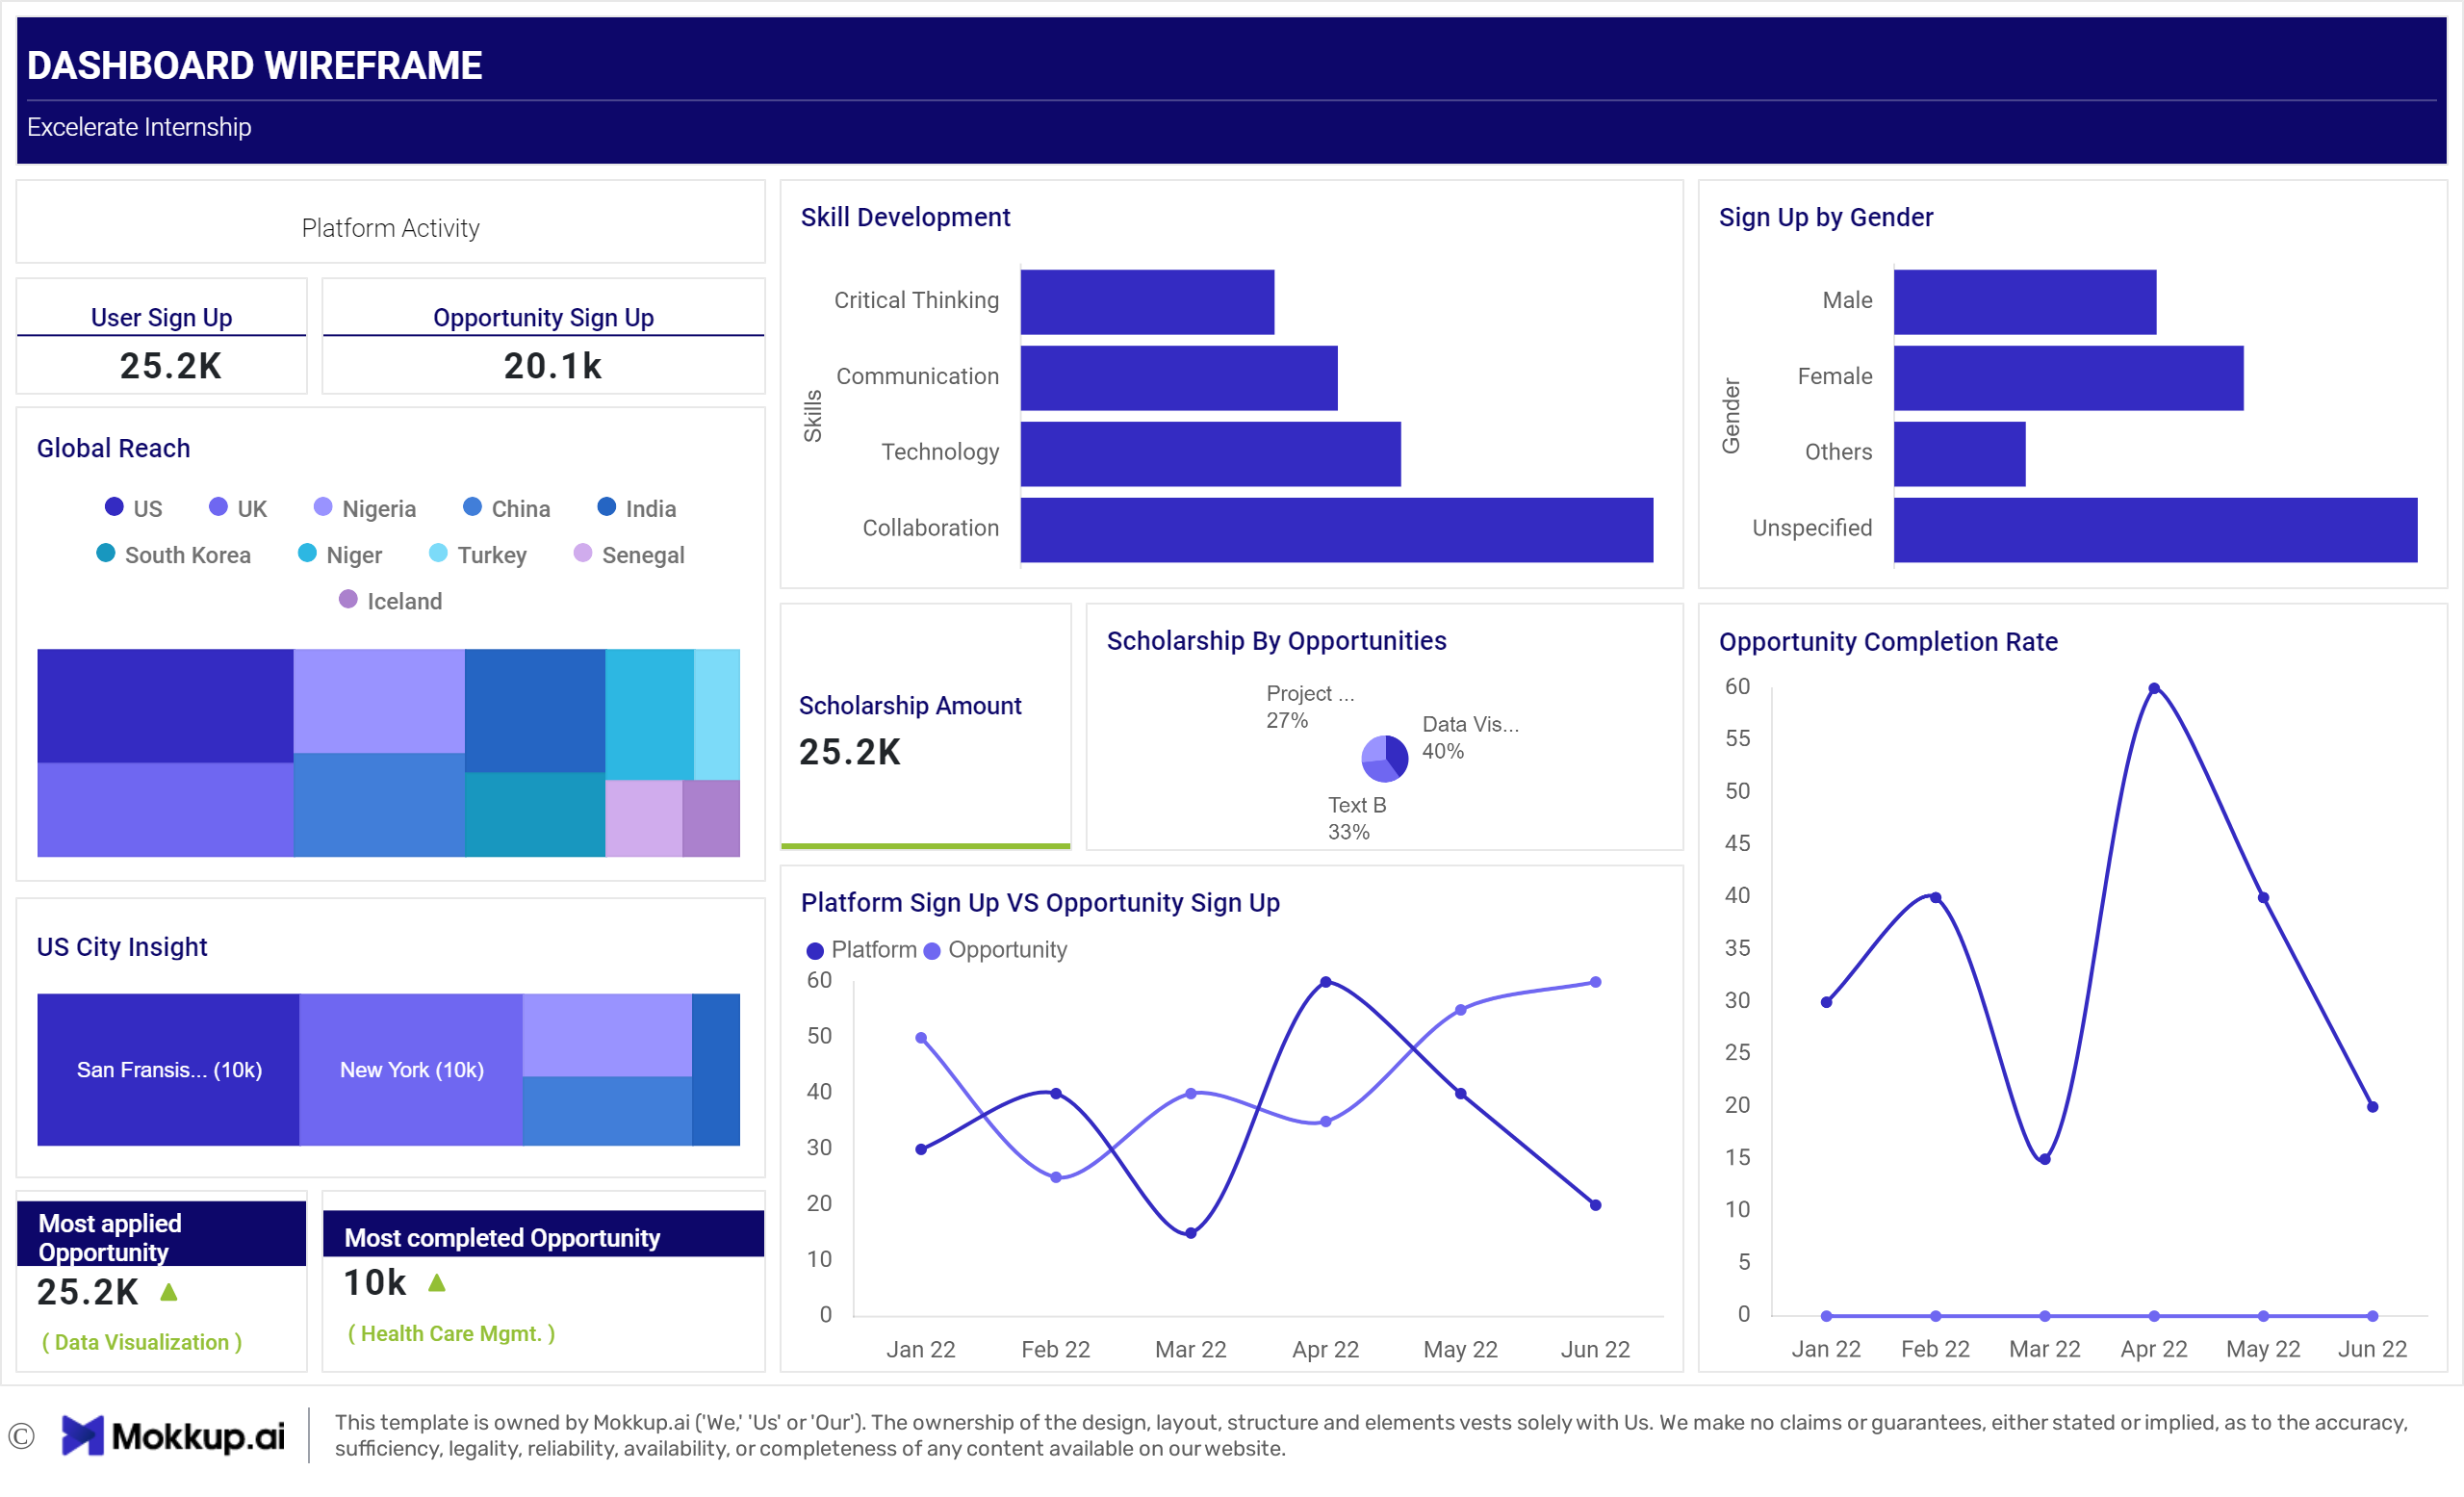

The page's visual inventory and layout, read from the dashboard file:
{"tool":"powerbi","page":{"name":"Final Dashboard","canvas":[1280,720],"ordinal":3},"visuals":[{"type":"card","fields":{"Values":["Count(UserData.Sign Up Date)"]},"box":[9.4,163.2,207.1,108.3],"z":0},{"type":"card","fields":{"Values":["CountNonNull(Opportunity Wise Data.Status Description)"]},"box":[218.1,164.7,205.5,108.3],"z":1000},{"type":"textbox","box":[9.4,0,1270.9,73.7],"z":2000},{"type":"textbox","box":[9.4,73.7,1270.9,48.6],"z":3000},{"type":"clusteredBarChart","fields":{"Category":["Opportunity Wise Data.Gender"],"Y":["CountNonNull(Opportunity Wise Data.Gender)"]},"box":[626,390.7,345.2,108.3],"z":4000},{"type":"clusteredColumnChart","fields":{"Category":["Opportunity Wise Data.Opportunity Name"],"Y":["CountNonNull(Opportunity Wise Data.Status Description)","CountNonNull(Opportunity Wise Data.Opportunity Name)"]},"box":[422.1,122.4,433,268.3],"z":5000},{"type":"textbox","box":[9,476,207,150],"z":6000},{"type":"textbox","box":[31.4,122.4,390.7,54.9],"z":7000},{"type":"clusteredBarChart","fields":{"Category":["Opportunity Wise Data.Country"],"Y":["CountNonNull(Opportunity Wise Data.Country)"]},"box":[4.7,282.4,423.6,216.5],"z":8000},{"type":"treemap","fields":{"Group":["UserData.city"],"Details":["UserData.Country"],"Values":["CountNonNull(UserData.city)"]},"box":[0,498.9,423.6,221.2],"z":9000},{"type":"card","fields":{"Values":["Sum(Opportunity Wise Data.Reward Amount)"]},"box":[428.3,390.7,175.7,122.4],"z":10000},{"type":"lineChart","fields":{"Category":["UserData.Sign Up Date.Variation.Date Hierarchy.Year","UserData.Sign Up Date.Variation.Date Hierarchy.Quarter"],"Y":["CountNonNull(UserData.Gender)"],"Y2":["CountNonNull(Opportunity Wise Data.Apply Date)"]},"box":[422.1,513.1,491.1,207.1],"z":11000},{"type":"pieChart","fields":{"Category":["Opportunity Wise Data.Opportunity Name"],"Y":["Sum(Opportunity Wise Data.Reward Amount)"]},"box":[855.1,122.4,425.2,236.9],"z":12000},{"type":"lineStackedColumnComboChart","fields":{"Category":["Opportunity Wise Data.Current Student Status"],"Y":["CountNonNull(Opportunity Wise Data.Status of completion)"]},"box":[983.4,401.3,296.6,318.8],"z":13000}]}

Visuals, with their boxes on the page's 1280x720 design canvas (x1, y1, x2, y2). These are canvas units, not pixel positions in the 2464x1497 screenshot, which may show the page scaled, cropped or inside an application window:
card - Count(UserData.Sign Up Date): (9, 163, 216, 272)
card - CountNonNull(Opportunity Wise Data.Status Description): (218, 165, 424, 273)
textbox: (9, 0, 1280, 74)
textbox: (9, 74, 1280, 122)
clusteredBarChart - Opportunity Wise Data.Gender x CountNonNull(Opportunity Wise Data.Gender): (626, 391, 971, 499)
clusteredColumnChart - Opportunity Wise Data.Opportunity Name x CountNonNull(Opportunity Wise Data.Status Description): (422, 122, 855, 391)
textbox: (9, 476, 216, 626)
textbox: (31, 122, 422, 177)
clusteredBarChart - Opportunity Wise Data.Country x CountNonNull(Opportunity Wise Data.Country): (5, 282, 428, 499)
treemap - UserData.city x UserData.Country: (0, 499, 424, 720)
card - Sum(Opportunity Wise Data.Reward Amount): (428, 391, 604, 513)
lineChart - UserData.Sign Up Date.Variation.Date Hierarchy.Year x UserData.Sign Up Date.Variation.Date Hierarchy.Quarter: (422, 513, 913, 720)
pieChart - Opportunity Wise Data.Opportunity Name x Sum(Opportunity Wise Data.Reward Amount): (855, 122, 1280, 359)
lineStackedColumnComboChart - Opportunity Wise Data.Current Student Status x CountNonNull(Opportunity Wise Data.Status of completion): (983, 401, 1280, 720)
